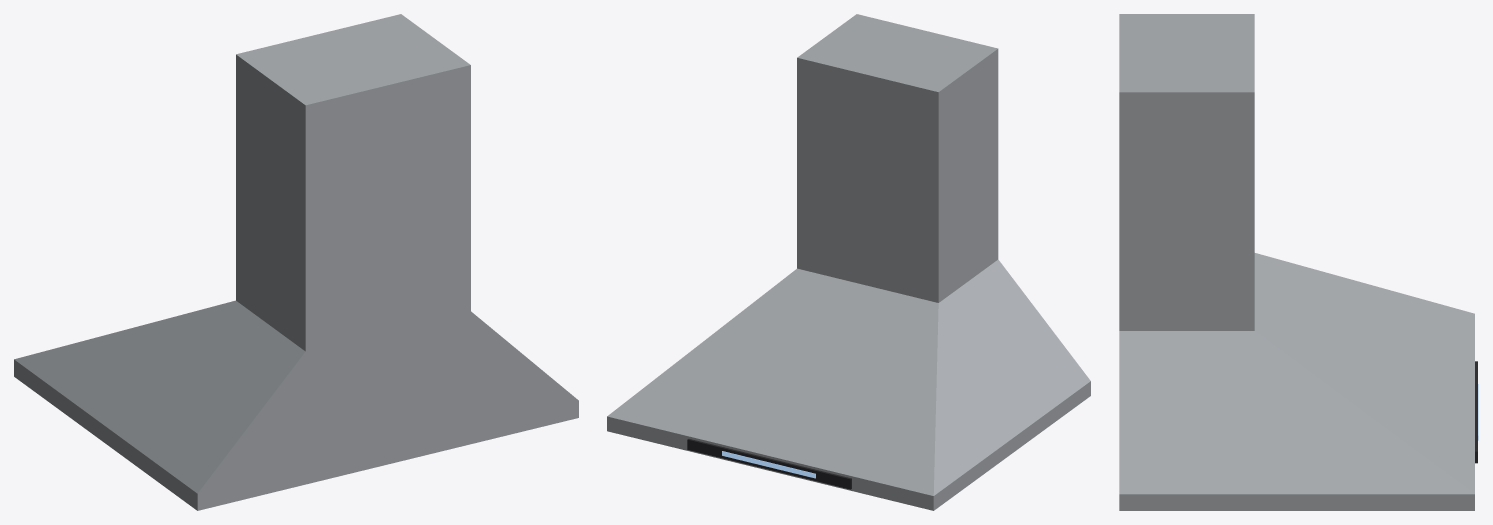
File: FN_Appliance_Extractor.glb
The picture shows the model from 3 angles, left to right: view 1: azimuth 30°, elevation 25°; view 2: azimuth 150°, elevation 25°; view 3: azimuth 270°, elevation 25°; orthographic projection. The views are drawn at different scales.
Visible parts, largest first — view 1: FN_Appliance_Extractor; view 2: FN_Appliance_Extractor; view 3: FN_Appliance_Extractor.
Boxes of the visible parts, box(x1,y1,x2,y2) form: FN_Appliance_Extractor: box(14, 14, 578, 510); FN_Appliance_Extractor: box(607, 14, 1090, 510); FN_Appliance_Extractor: box(1119, 14, 1478, 510).
Bounding box in the file's own units: 0.6 × 0.57 × 0.505.
2 materials, 2 textured.
